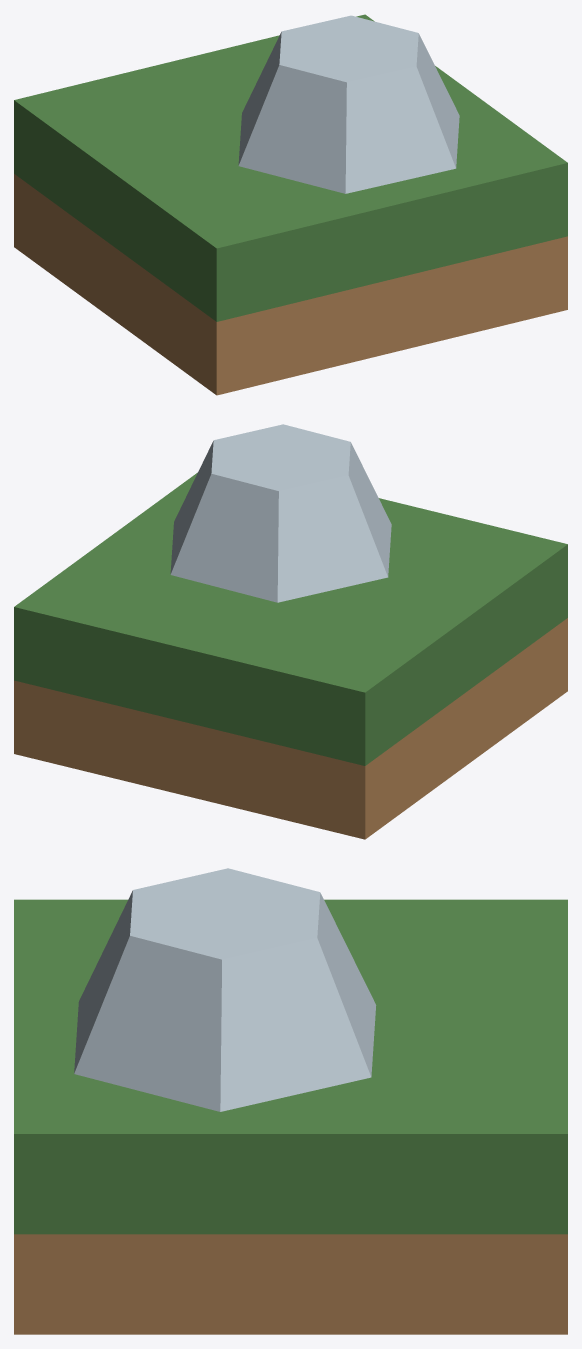
The model's file is tile_074.obj.
3 renders of one model, top to bottom at view 1: azimuth 30°, elevation 25°; view 2: azimuth 150°, elevation 25°; view 3: azimuth 270°, elevation 25°, orthographic. The views are drawn at different scales.
Parts seen in each view (by area): view 1: tile_074, Group; view 2: tile_074, Group; view 3: tile_074, Group.
Boxes of the visible parts, x1,y1,x2,y2 form: tile_074: (14, 14, 567, 395); Group: (238, 15, 459, 193); tile_074: (14, 472, 567, 839); Group: (170, 424, 391, 602); tile_074: (14, 899, 567, 1334); Group: (74, 868, 376, 1111).
Size of the model in its own units: 1 by 0.65 by 1.
